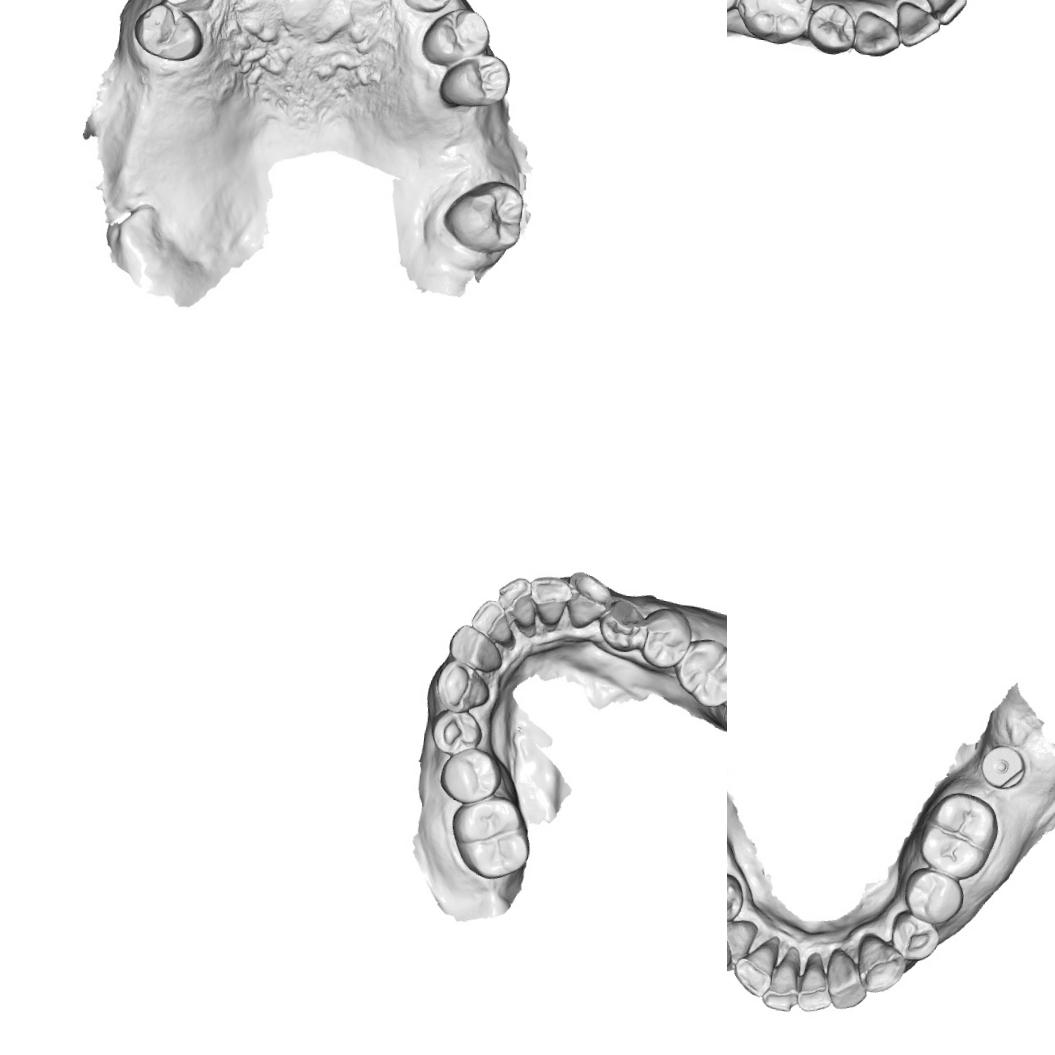canine: (430, 657, 494, 716), (562, 569, 616, 635), (854, 932, 909, 996), (850, 6, 904, 61), (727, 917, 762, 975), (397, 0, 462, 18), (156, 0, 222, 14)
implant: (979, 742, 1028, 792)
incisor: (446, 621, 508, 680), (822, 945, 870, 1011), (524, 572, 575, 631), (492, 575, 542, 632), (731, 938, 779, 996), (891, 0, 945, 51), (760, 950, 801, 1015), (468, 595, 520, 646), (796, 954, 836, 1016), (921, 0, 971, 28)
molar: (916, 788, 1005, 884), (446, 792, 538, 884), (438, 174, 528, 258), (672, 634, 727, 713), (733, 0, 816, 49)
premolar: (416, 1, 492, 71), (435, 48, 514, 115), (128, 0, 208, 65), (436, 743, 504, 808), (900, 866, 965, 928), (640, 606, 694, 672), (596, 592, 650, 656), (804, 0, 859, 57), (428, 707, 486, 758), (887, 910, 940, 963), (727, 871, 745, 925)
